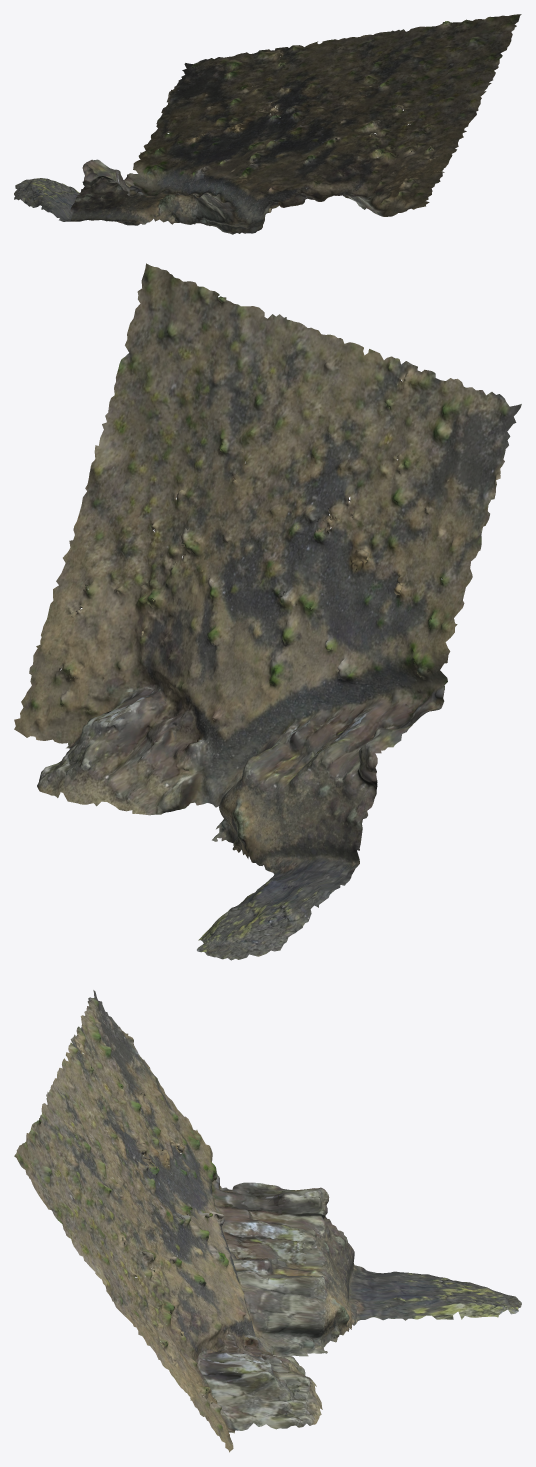
The model's file is tile_28.obj.
3 renders of one model, top to bottom at view 1: azimuth 30°, elevation 25°; view 2: azimuth 150°, elevation 25°; view 3: azimuth 270°, elevation 25°, orthographic. The views are drawn at different scales.
Size of the model in its own units: 1.14 by 0.9497 by 1.45.
1 material, 1 textured.
